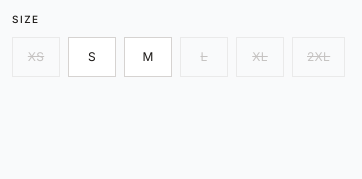
Test: VariantPicker — colour reveal › shows colours for selected size after clicking a size
Step 1. Click the button "S" → (92, 57), box [68, 37, 116, 77]
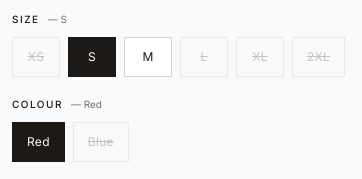
Check: the button "Red" is shown, box [12, 122, 65, 162]
Check: the button "Blue" is shown, box [73, 122, 129, 162]
